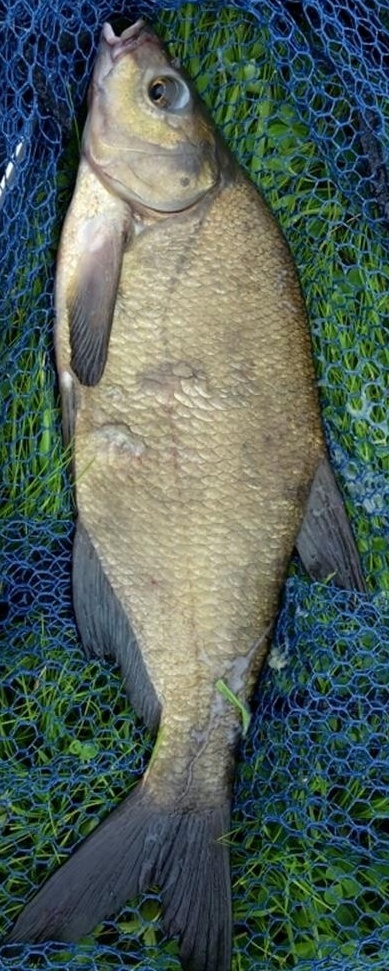Abramis brama: (20, 20, 369, 970)
